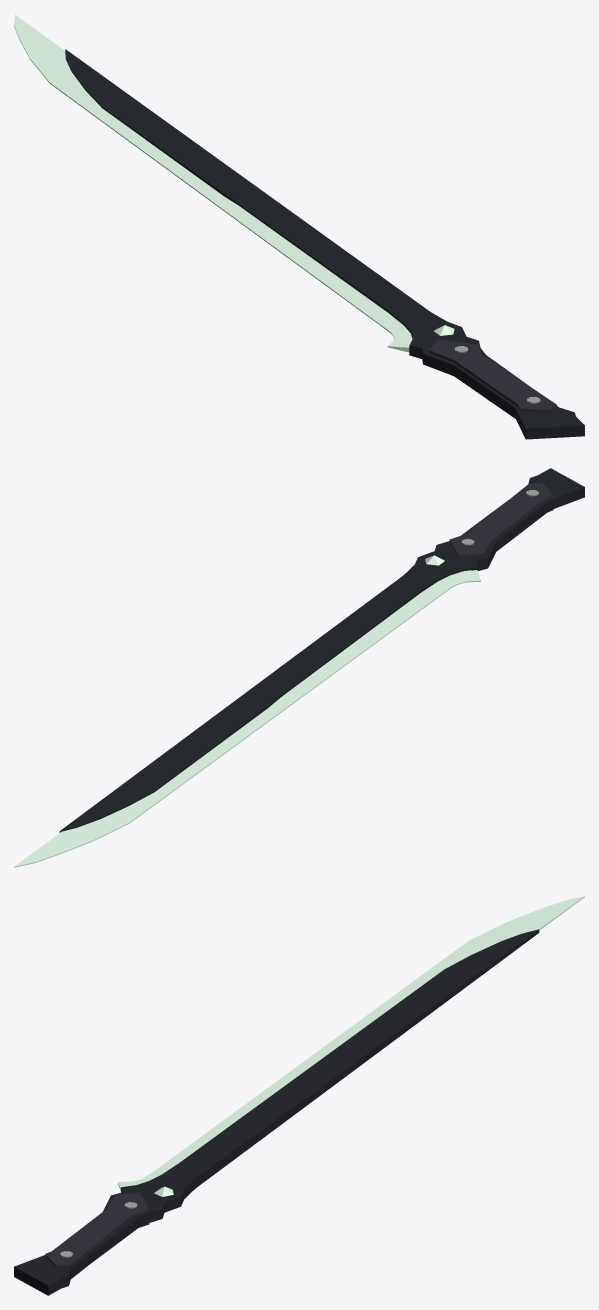
The model's file is blade_of_ionia_white.glb.
3 renders of one model, top to bottom at view 1: azimuth 30°, elevation 25°; view 2: azimuth 150°, elevation 25°; view 3: azimuth 330°, elevation 25°, orthographic. The views are drawn at different scales.
Visible parts, largest first — view 1: Blade_Of_Ionia; view 2: Blade_Of_Ionia; view 3: Blade_Of_Ionia.
Boxes of the visible parts, x1=… form: Blade_Of_Ionia: x1=14, y1=14, x2=584, y2=439; Blade_Of_Ionia: x1=14, y1=468, x2=584, y2=867; Blade_Of_Ionia: x1=14, y1=896, x2=584, y2=1295.
Size of the model in its own units: 0.049 by 0.0156 by 0.6862.
Materials: 1 (1 with a texture image).
